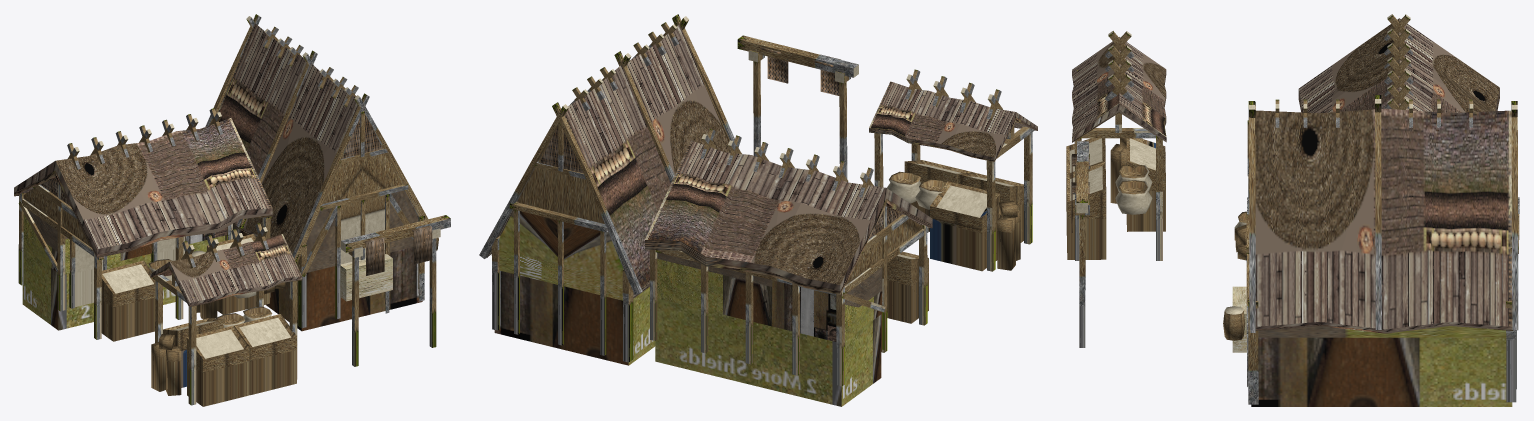
Rendered from market.dae.
3 renders of one model, left to right at view 1: azimuth 30°, elevation 25°; view 2: azimuth 150°, elevation 25°; view 3: azimuth 270°, elevation 25°, orthographic. The views are drawn at different scales.
Parts seen in each view (by area): view 1: market; view 2: market; view 3: market.
Part boxes in pixels (x1,y1,x2,y2): market: (14,14,450,406); market: (479,14,1037,406); market: (1066,14,1519,406).
Size of the model in its own units: 29.29 by 29.1 by 19.53.
